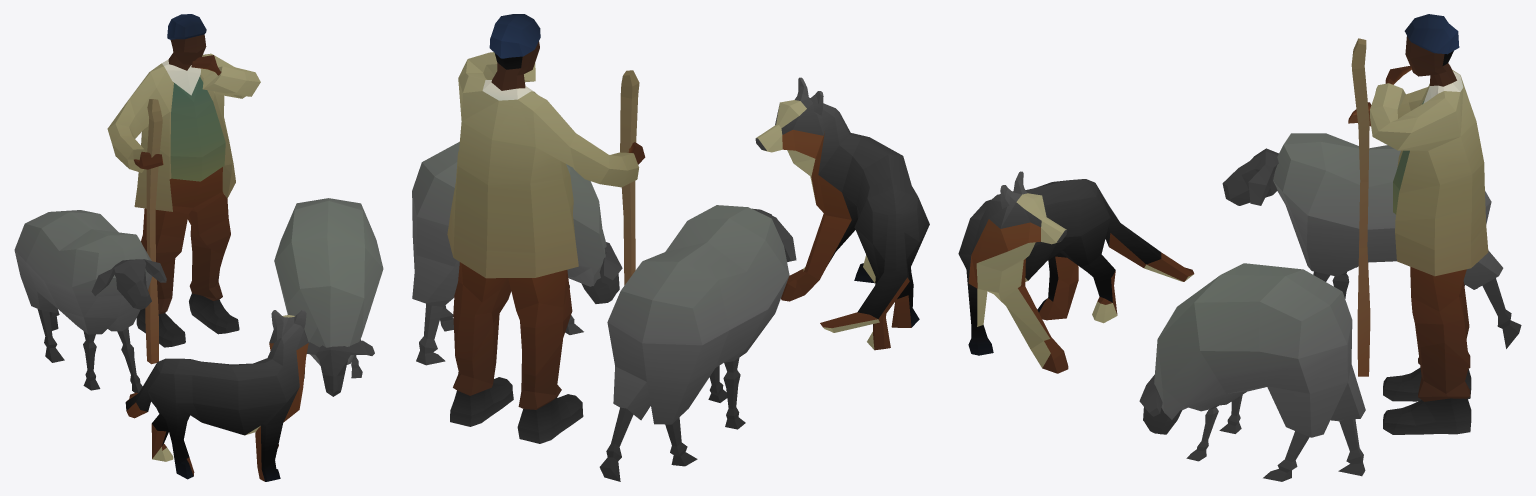
File: shepherd.glb
The picture shows the model from 3 angles, left to right: view 1: azimuth 30°, elevation 25°; view 2: azimuth 150°, elevation 25°; view 3: azimuth 270°, elevation 25°; orthographic projection. The views are drawn at different scales.
Parts seen in each view (by area): view 1: Cube.015; view 2: Cube.015; view 3: Cube.015.
Boxes of the visible parts, box(x1,y1,x2,y2) form: Cube.015: box(14, 14, 383, 481); Cube.015: box(412, 14, 929, 481); Cube.015: box(958, 14, 1521, 481).
Size of the model in its own units: 1.94 by 1.87 by 2.42.
1 material, 1 textured.
